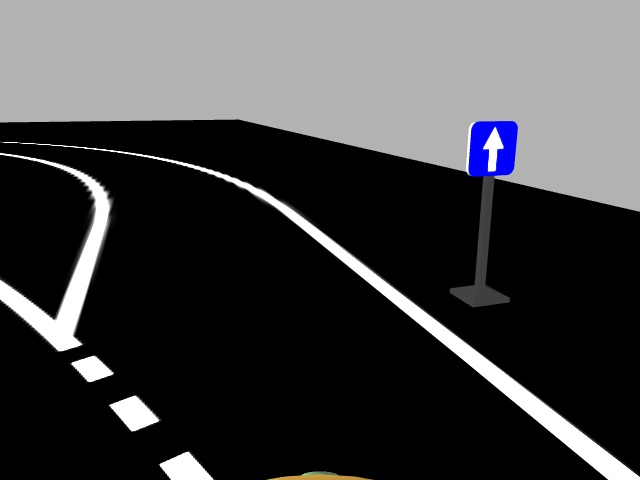OneWay: (467, 118, 516, 176)
